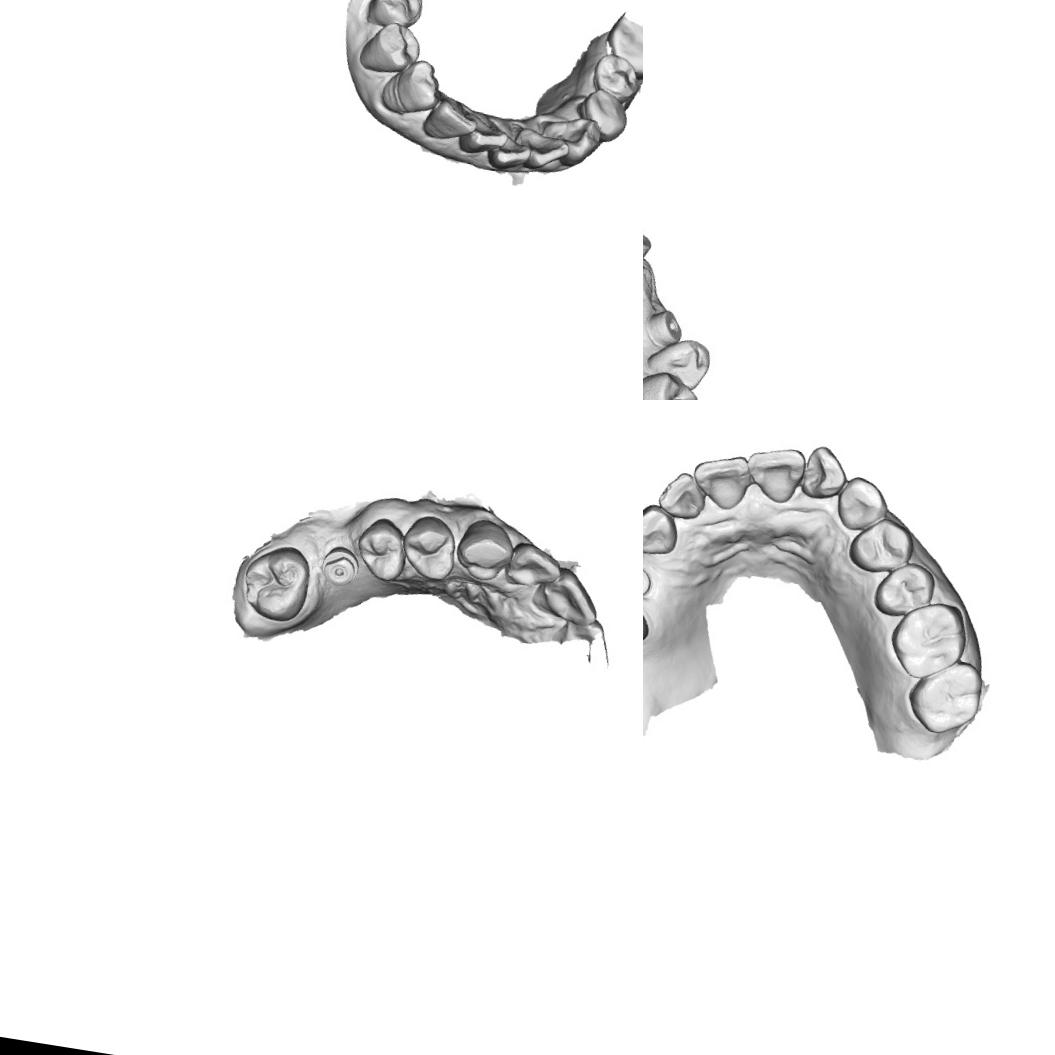canine: (449, 514, 519, 588), (376, 56, 446, 125), (643, 334, 717, 394), (532, 109, 606, 168), (831, 472, 893, 536), (643, 499, 684, 561)
implant: (316, 540, 364, 592), (644, 306, 684, 345), (643, 565, 653, 599)
incisor: (528, 562, 606, 630), (741, 440, 808, 508), (686, 447, 754, 514), (500, 538, 566, 598), (796, 442, 853, 504), (422, 89, 480, 148), (510, 123, 574, 176), (457, 102, 512, 160), (654, 467, 709, 522), (482, 128, 536, 176)
molar: (883, 594, 971, 686), (901, 652, 988, 741), (235, 538, 318, 628), (596, 13, 643, 83)
premolar: (395, 510, 464, 586), (846, 511, 918, 579), (870, 555, 940, 624), (353, 13, 424, 80), (350, 513, 412, 588), (570, 85, 633, 147), (588, 48, 643, 105), (361, 0, 429, 34), (643, 366, 704, 400)
